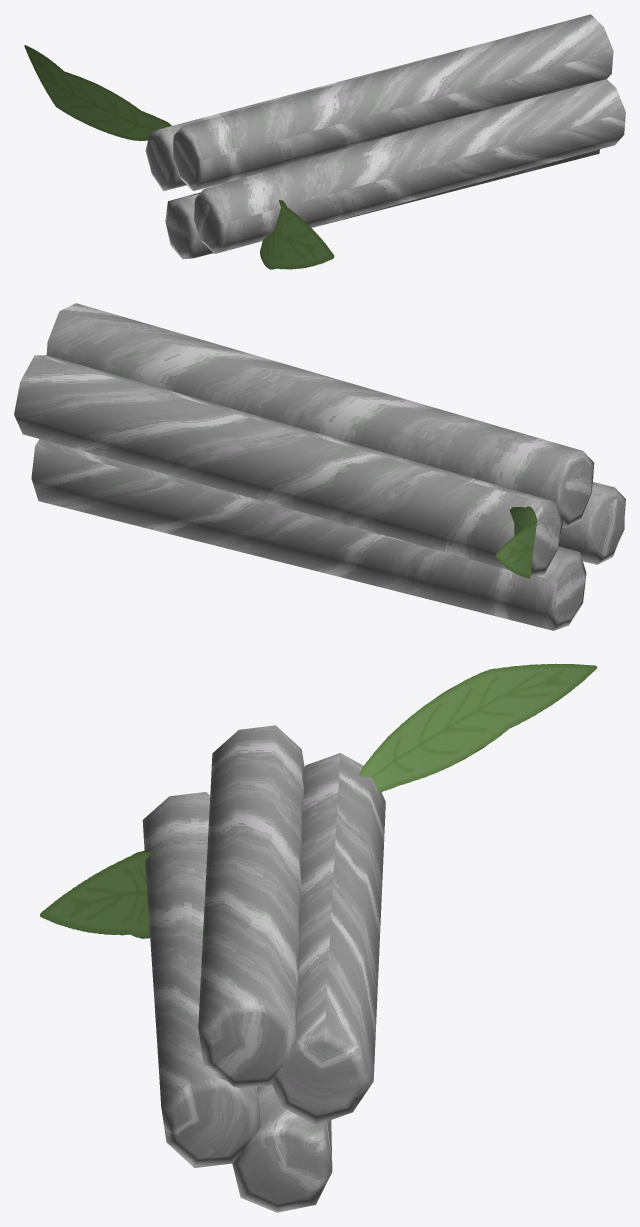
File: SugarCaneHand.fbx
3 renders of one model, top to bottom at view 1: azimuth 30°, elevation 25°; view 2: azimuth 150°, elevation 25°; view 3: azimuth 270°, elevation 25°, orthographic. The views are drawn at different scales.
Visible parts, largest first — view 1: Sugarcane, SugarCaneLeaf (4), SugarCaneLeaf (5); view 2: Sugarcane, SugarCaneLeaf (4); view 3: Sugarcane, SugarCaneLeaf (4), SugarCaneLeaf (5).
Part boxes in pixels (box(x1,y1,x2,y2)): Sugarcane: box(145, 14, 625, 259); SugarCaneLeaf (4): box(24, 45, 171, 140); SugarCaneLeaf (5): box(260, 200, 334, 269); Sugarcane: box(14, 303, 625, 630); SugarCaneLeaf (4): box(495, 506, 536, 578); Sugarcane: box(142, 725, 385, 1212); SugarCaneLeaf (4): box(359, 663, 597, 792); SugarCaneLeaf (5): box(40, 850, 153, 938).
Bounding box in the file's own units: 1.47 × 0.4639 × 1.13.
